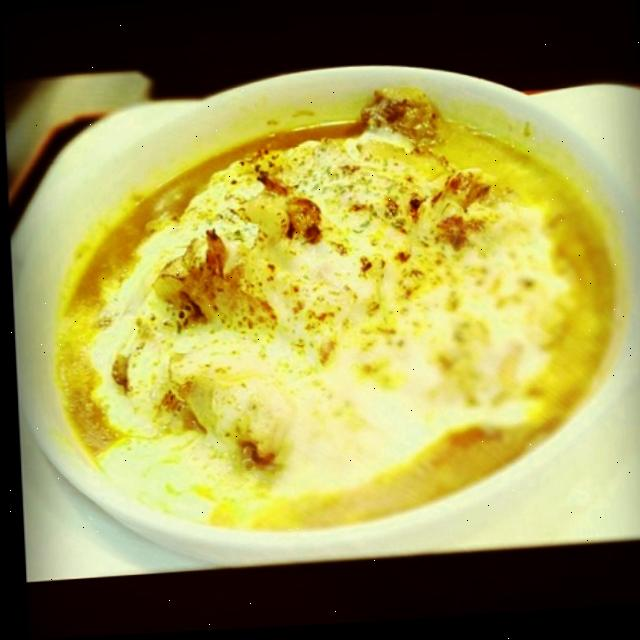米饭主食: (10, 61, 640, 554)
